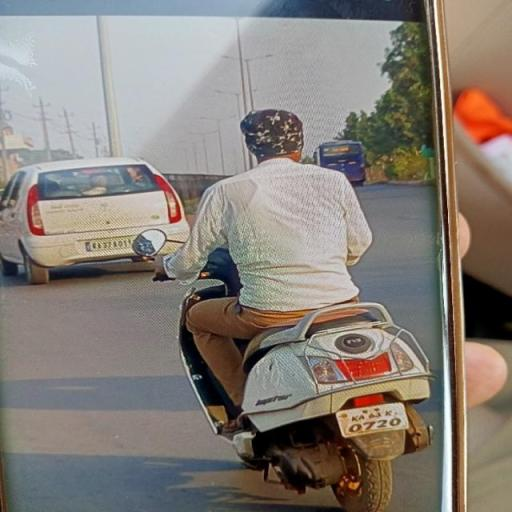bike: (140, 73, 426, 512)
numberplate: (338, 398, 410, 440)
withouthelmet: (243, 110, 305, 162)
